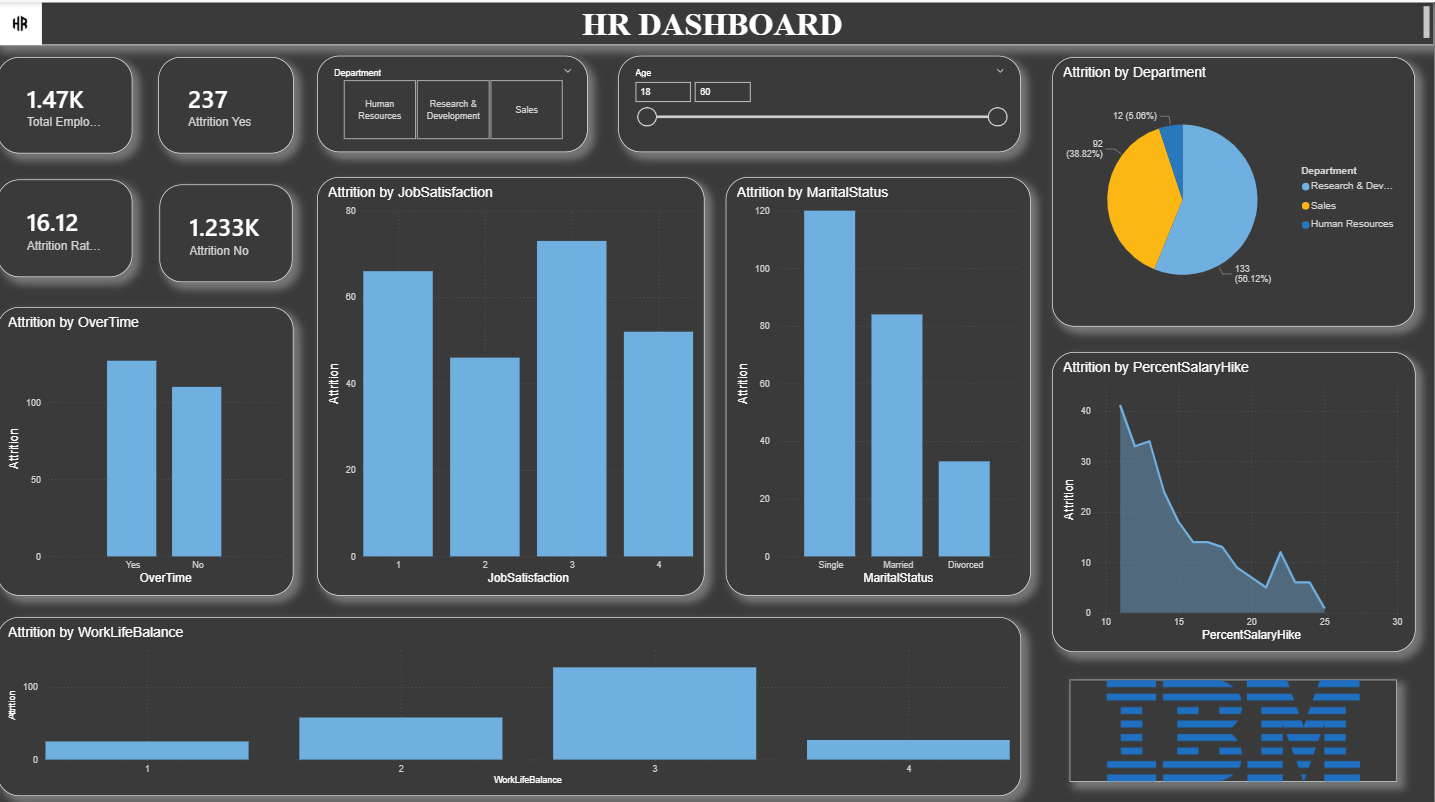

This screenshot's page, from the dashboard's own definition file:
{"tool":"powerbi","page":{"name":"Page 1","canvas":[1920,1080],"ordinal":0},"visuals":[{"type":"textbox","box":[0,0,1920.1,57.9],"z":0},{"type":"image","box":[0,0,61.5,57.9],"z":1000},{"type":"cardVisual","fields":{"Data":["WA_Fn-UseC_-HR-Employee-Attrition.Total Employees"]},"box":[0,74.2,181,128.5],"z":2000},{"type":"cardVisual","fields":{"Data":["WA_Fn-UseC_-HR-Employee-Attrition.Attrition Yes"]},"box":[215.3,74.2,181,128.5],"z":3000},{"type":"cardVisual","fields":{"Data":["WA_Fn-UseC_-HR-Employee-Attrition.Attrition No"]},"box":[217.2,244.3,177.3,130.3],"z":4000},{"type":"cardVisual","fields":{"Data":["WA_Fn-UseC_-HR-Employee-Attrition.Attrition Rate %"]},"box":[0,237.1,181,130.3],"z":5000},{"type":"columnChart","fields":{"Y":["WA_Fn-UseC_-HR-Employee-Attrition.Attrition Yes"],"Category":["WA_Fn-UseC_-HR-Employee-Attrition.OverTime"]},"box":[0,407.2,396.3,385.5],"z":6000},{"type":"columnChart","fields":{"Category":["WA_Fn-UseC_-HR-Employee-Attrition.JobSatisfaction"],"Y":["WA_Fn-UseC_-HR-Employee-Attrition.Attrition Yes"]},"box":[427.1,233.4,517.6,559.2],"z":7000},{"type":"pieChart","fields":{"Category":["WA_Fn-UseC_-HR-Employee-Attrition.Department"],"Y":["WA_Fn-UseC_-HR-Employee-Attrition.Attrition Yes"]},"box":[1409.7,74.2,485,360.1],"z":8000},{"type":"areaChart","fields":{"Category":["WA_Fn-UseC_-HR-Employee-Attrition.PercentSalaryHike"],"Y":["WA_Fn-UseC_-HR-Employee-Attrition.Attrition Yes"]},"box":[1409.3,467.5,485.9,400.7],"z":9000},{"type":"columnChart","fields":{"Category":["WA_Fn-UseC_-HR-Employee-Attrition.WorkLifeBalance"],"Y":["WA_Fn-UseC_-HR-Employee-Attrition.Attrition Yes"]},"box":[0,821.6,1368.1,238.9],"z":10000},{"type":"columnChart","fields":{"Category":["WA_Fn-UseC_-HR-Employee-Attrition.MaritalStatus"],"Y":["WA_Fn-UseC_-HR-Employee-Attrition.Attrition Yes"]},"box":[973.6,233.4,407.2,559.2],"z":11000},{"type":"slicer","fields":{"Values":["WA_Fn-UseC_-HR-Employee-Attrition.Department"]},"box":[427.1,72.4,361.9,128.5],"z":12000},{"type":"slicer","fields":{"Values":["WA_Fn-UseC_-HR-Employee-Attrition.Age"]},"box":[830.6,72.4,537.5,128.5],"z":13000},{"type":"image","box":[1432.7,905,437.5,136.9],"z":14000}]}

Visuals, with their boxes in screenshot pixels (x1, y1, x2, y2), scaled from the page's 1920x1080 canvas onto the 1435x802 screenshot:
textbox: detection(0, 0, 1434, 43)
image: detection(0, 0, 46, 43)
cardVisual - WA_Fn-UseC_-HR-Employee-Attrition.Total Employees: detection(0, 55, 135, 151)
cardVisual - WA_Fn-UseC_-HR-Employee-Attrition.Attrition Yes: detection(161, 55, 296, 151)
cardVisual - WA_Fn-UseC_-HR-Employee-Attrition.Attrition No: detection(162, 181, 295, 278)
cardVisual - WA_Fn-UseC_-HR-Employee-Attrition.Attrition Rate %: detection(0, 176, 135, 273)
columnChart - WA_Fn-UseC_-HR-Employee-Attrition.Attrition Yes x WA_Fn-UseC_-HR-Employee-Attrition.OverTime: detection(0, 302, 296, 589)
columnChart - WA_Fn-UseC_-HR-Employee-Attrition.JobSatisfaction x WA_Fn-UseC_-HR-Employee-Attrition.Attrition Yes: detection(319, 173, 706, 589)
pieChart - WA_Fn-UseC_-HR-Employee-Attrition.Department x WA_Fn-UseC_-HR-Employee-Attrition.Attrition Yes: detection(1054, 55, 1416, 323)
areaChart - WA_Fn-UseC_-HR-Employee-Attrition.PercentSalaryHike x WA_Fn-UseC_-HR-Employee-Attrition.Attrition Yes: detection(1053, 347, 1416, 645)
columnChart - WA_Fn-UseC_-HR-Employee-Attrition.WorkLifeBalance x WA_Fn-UseC_-HR-Employee-Attrition.Attrition Yes: detection(0, 610, 1023, 788)
columnChart - WA_Fn-UseC_-HR-Employee-Attrition.MaritalStatus x WA_Fn-UseC_-HR-Employee-Attrition.Attrition Yes: detection(728, 173, 1032, 589)
slicer - WA_Fn-UseC_-HR-Employee-Attrition.Department: detection(319, 54, 590, 149)
slicer - WA_Fn-UseC_-HR-Employee-Attrition.Age: detection(621, 54, 1023, 149)
image: detection(1071, 672, 1398, 774)
